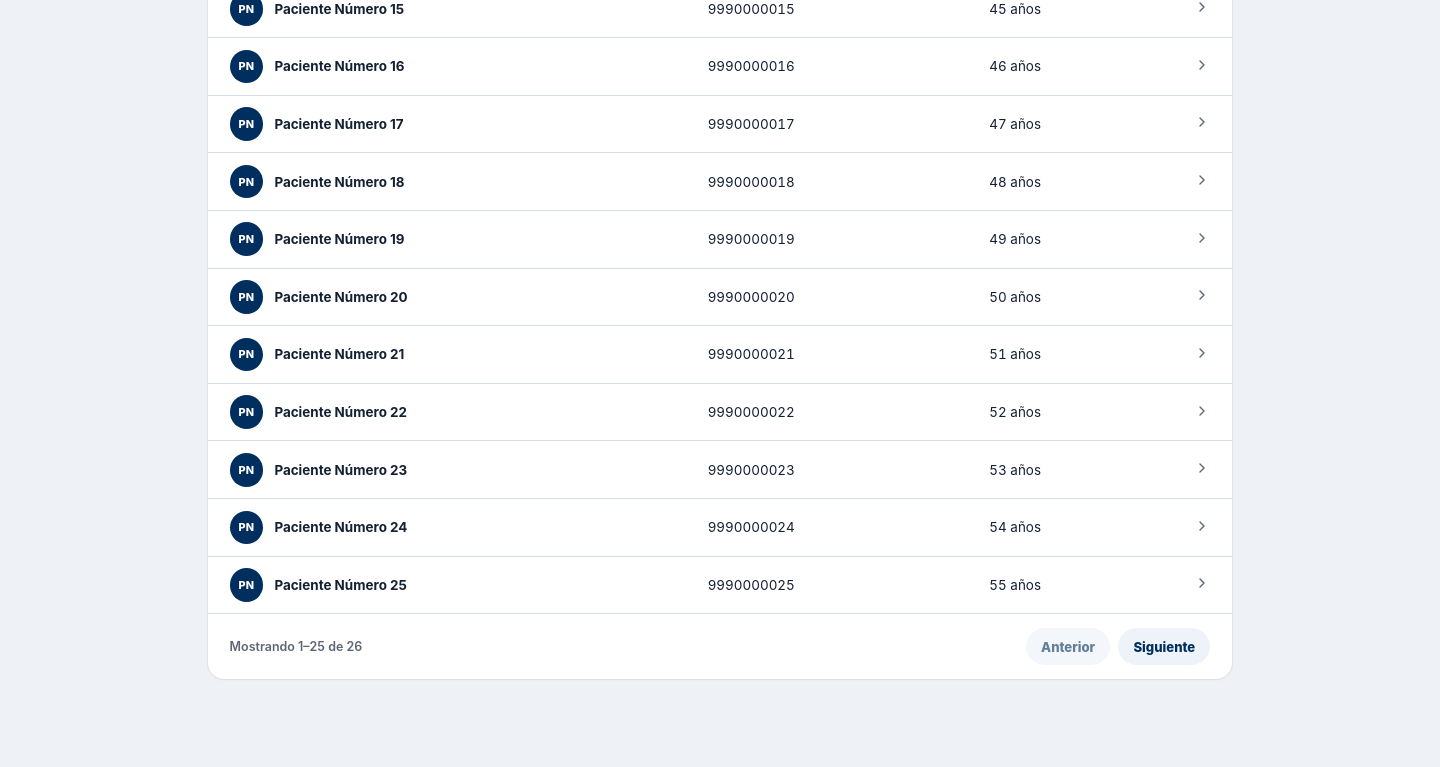
Scenario: lista de pacientes (EDT 4.3.2) › pagina de 25 en 25 y navega con Anterior y Siguiente (RF 3.2.1)
The image size is (1440, 767).
(page scrolled)
Expected: the text "Mostrando 1–25 de 26" is shown, [230, 639, 362, 654]
Expected: the button "Anterior" is disabled, [1026, 628, 1110, 666]
Click the button "Siguiente".
click(1164, 647)  # box [1118, 628, 1210, 666]
(page scrolled)
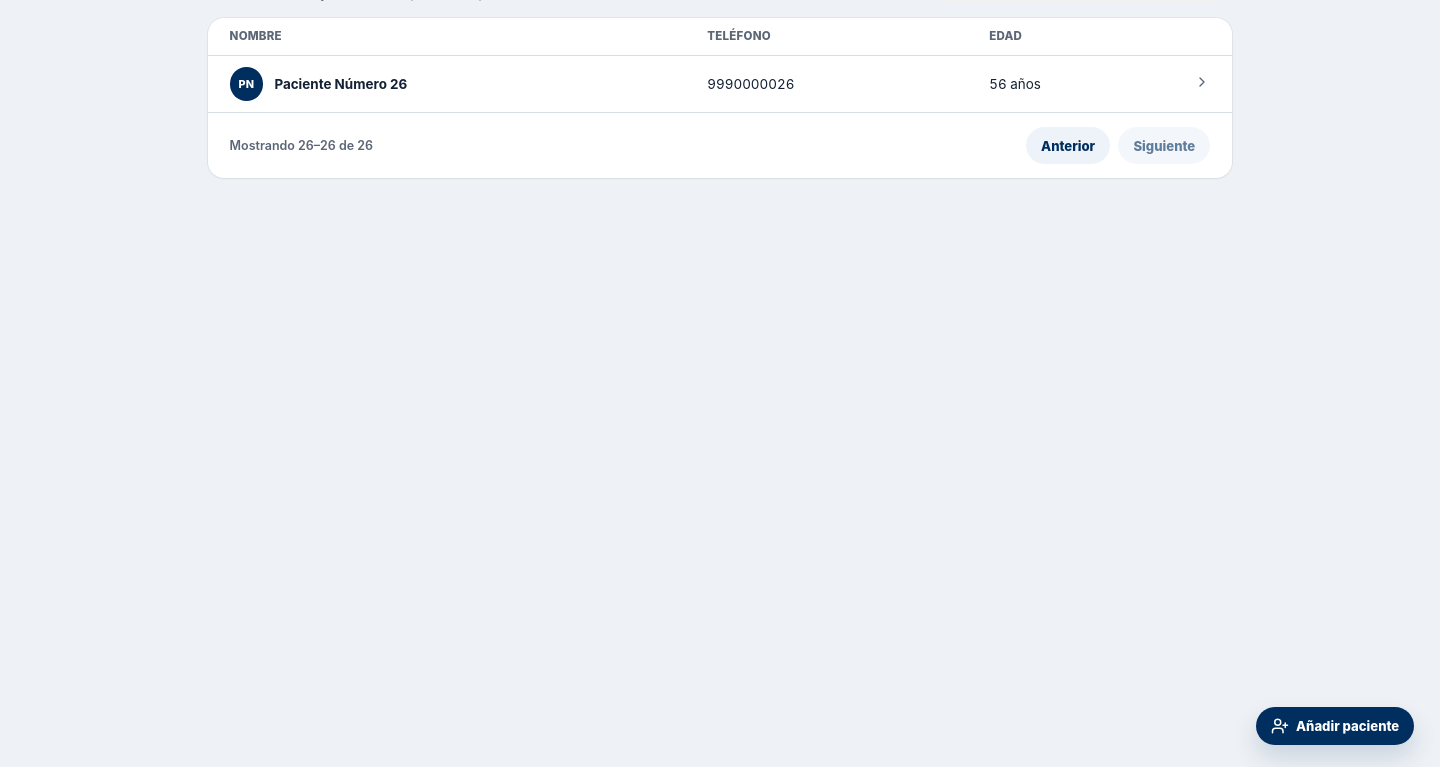
Expected: the text "Mostrando 26–26 de 26" is shown, [230, 138, 373, 153]
Expected: the button "Siguiente" is disabled, [1118, 127, 1210, 164]
